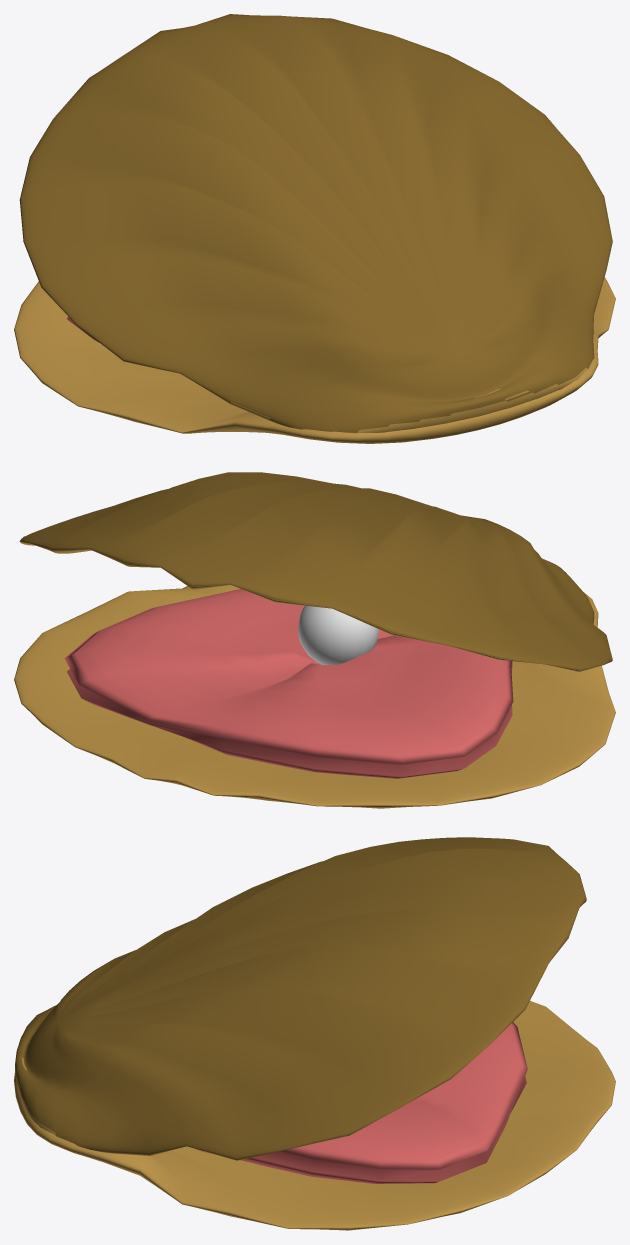
File: clam.fbx
3 views of the same model, one above another, from view 1: azimuth 30°, elevation 25°; view 2: azimuth 150°, elevation 25°; view 3: azimuth 270°, elevation 25° (orthographic).
Parts seen in each view (by area): view 1: pSphere1, pSphere3; view 2: pSphere1, pSphere4, pSphere3, pSphere5; view 3: pSphere1, pSphere3, pSphere4.
Boxes of the visible parts, x1=… form: pSphere1: x1=19, y1=14, x2=612, y2=433; pSphere3: x1=14, y1=277, x2=615, y2=443; pSphere1: x1=19, y1=472, x2=612, y2=671; pSphere4: x1=64, y1=589, x2=513, y2=778; pSphere3: x1=14, y1=585, x2=615, y2=808; pSphere5: x1=298, y1=605, x2=378, y2=664; pSphere1: x1=15, y1=837, x2=586, y2=1160; pSphere3: x1=14, y1=1001, x2=615, y2=1230; pSphere4: x1=196, y1=1022, x2=527, y2=1183.
Size of the model in its own units: 2.57 by 1.19 by 2.51.
